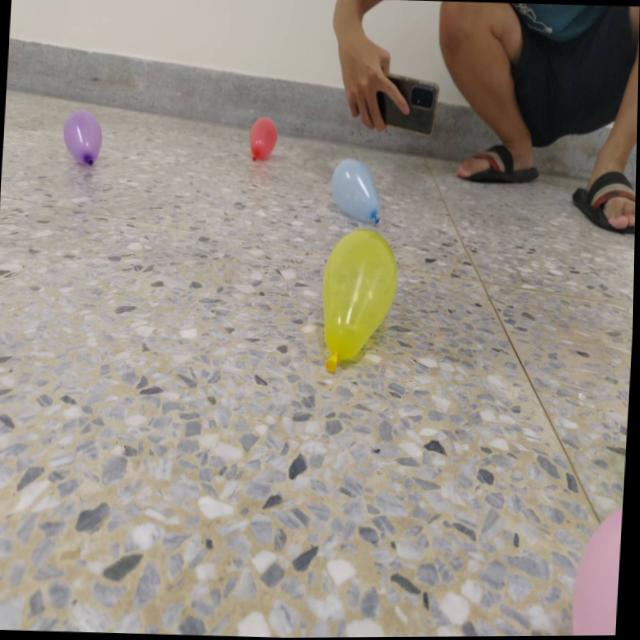other: (320, 228, 401, 374), (571, 505, 624, 637), (330, 157, 383, 225), (62, 107, 104, 166)
red: (249, 114, 278, 162)
